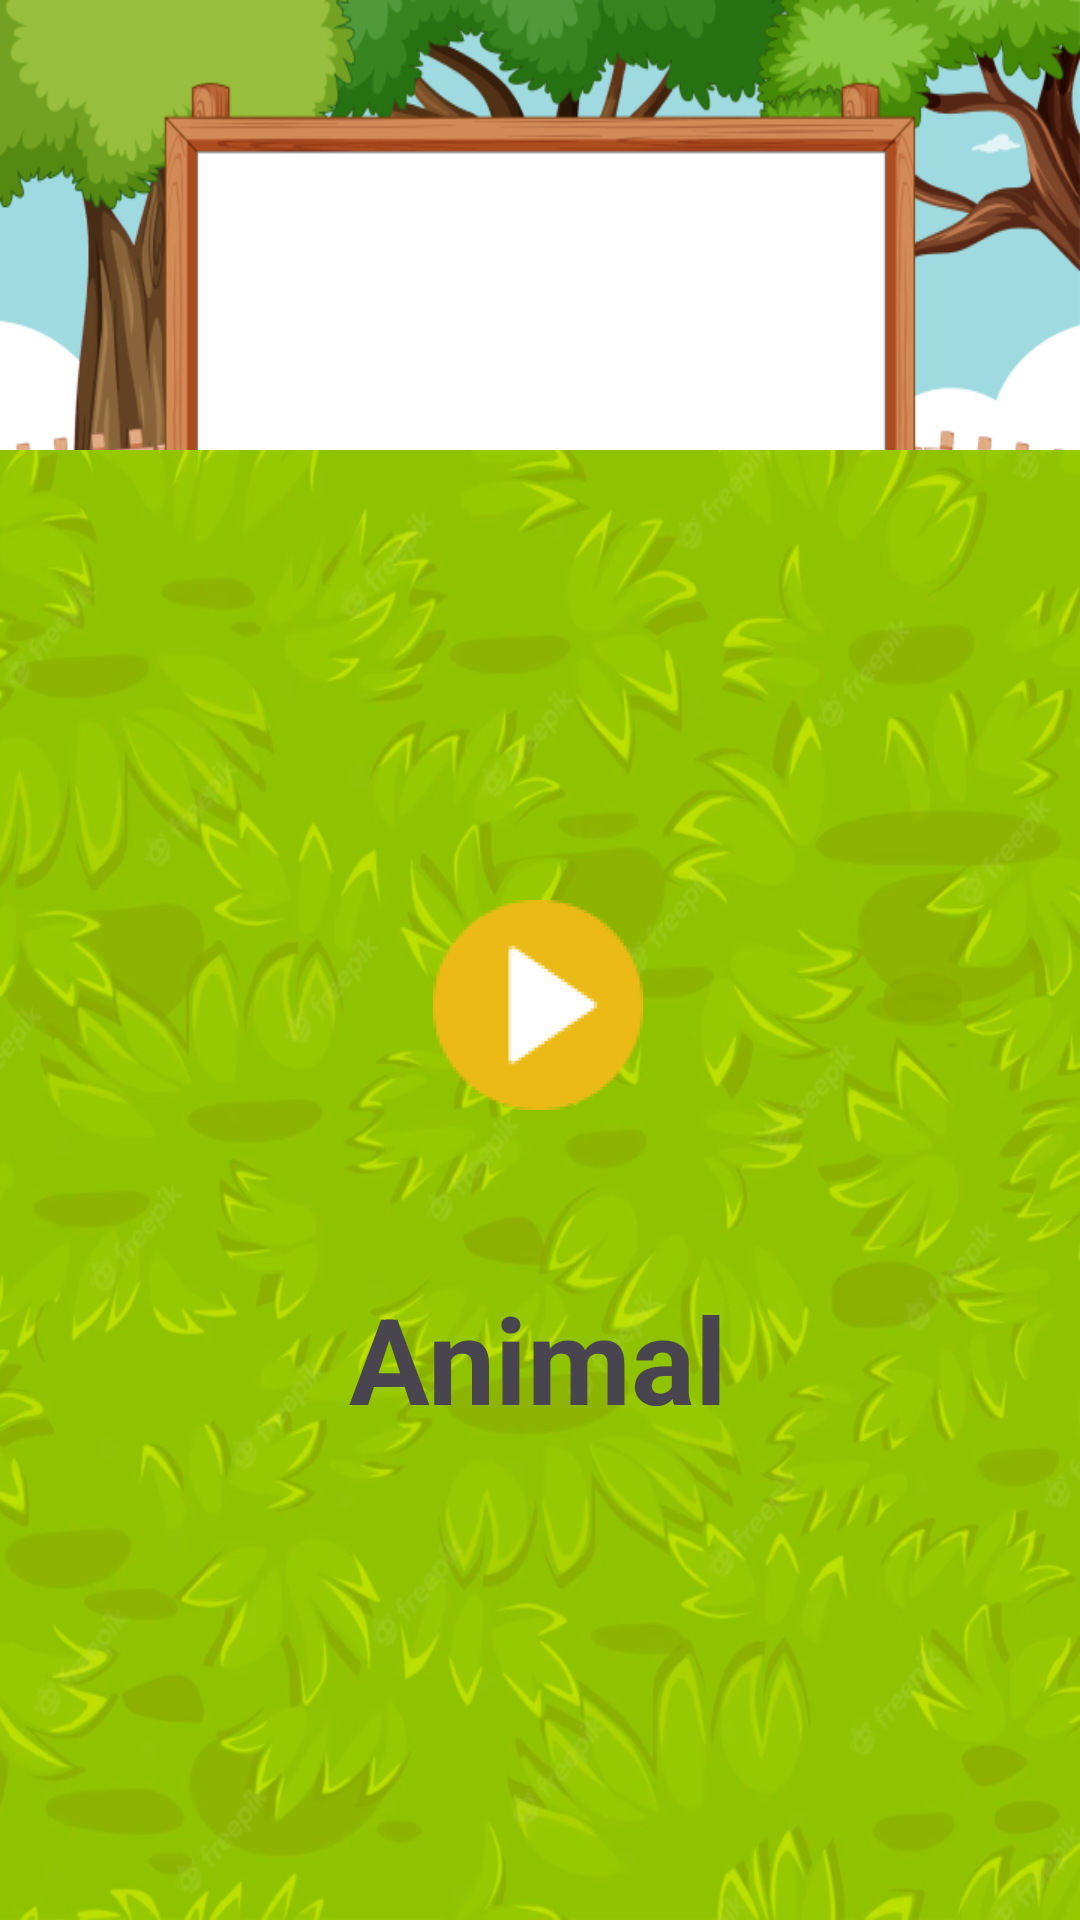

Icon bounding boxes for this 1080w x 1920h phone screenshot, format BBox(x1, y1, x2, y2):
play: BBox(433, 900, 643, 1110)
